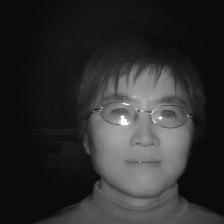normal: (72, 43, 206, 202)
